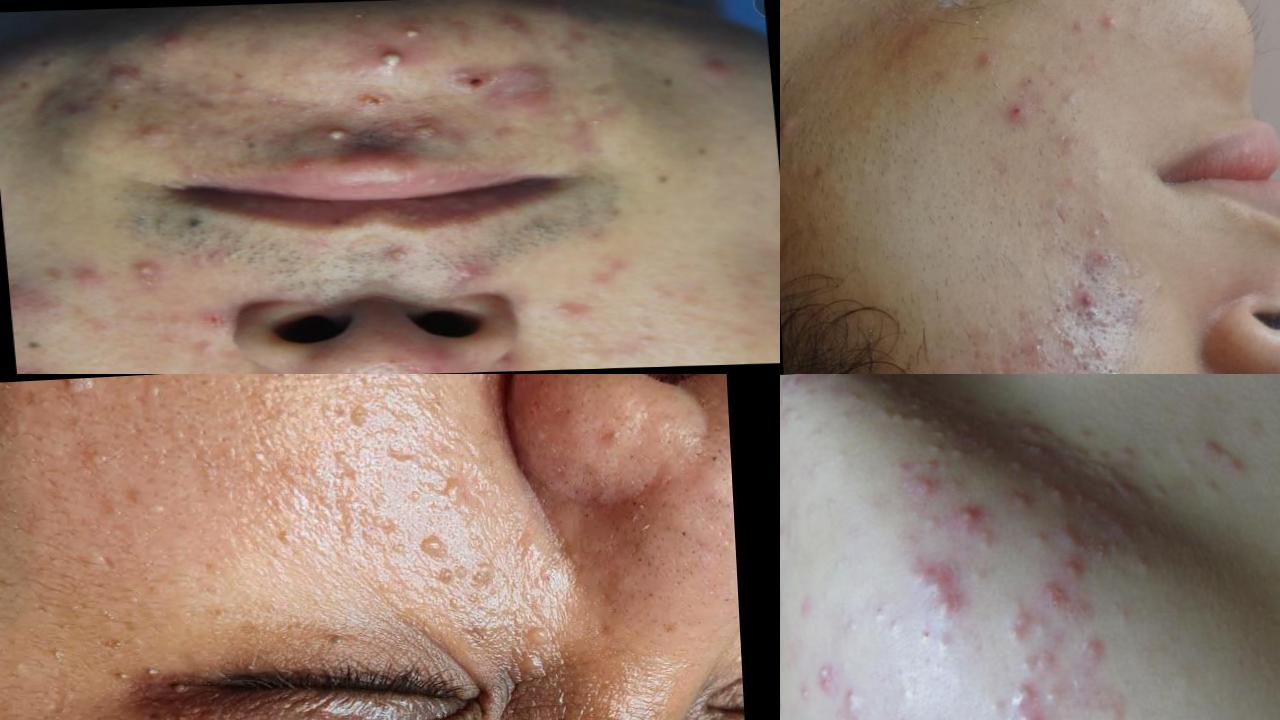acne_scars: (1083, 328, 1120, 368), (993, 346, 1022, 375)
blackhead: (634, 565, 668, 617), (623, 489, 655, 523), (605, 416, 632, 454), (1089, 198, 1121, 230), (697, 435, 722, 474), (1019, 65, 1047, 94), (671, 515, 698, 545)
cystic: (909, 555, 961, 599), (1055, 513, 1093, 560)
flat_wart: (411, 518, 523, 601), (169, 417, 250, 487), (322, 500, 408, 556), (323, 398, 396, 438), (437, 468, 485, 512), (86, 439, 137, 479), (58, 380, 123, 400)
milium: (47, 634, 75, 666), (159, 706, 203, 720), (113, 660, 130, 687)
papular: (126, 114, 178, 151), (536, 291, 589, 327), (1090, 1, 1126, 45), (144, 30, 191, 58), (100, 60, 144, 88), (65, 257, 106, 287), (1041, 580, 1073, 612), (999, 101, 1032, 132), (448, 259, 490, 283), (977, 38, 1002, 78)
purulent: (126, 256, 178, 282), (395, 19, 441, 44), (1007, 679, 1038, 714), (372, 45, 413, 71), (1061, 561, 1092, 595), (1010, 603, 1033, 647), (934, 598, 966, 627), (1086, 632, 1114, 665), (321, 123, 355, 146), (413, 123, 443, 141), (958, 503, 980, 527), (389, 248, 414, 262), (1022, 714, 1036, 720)
sebo-crystan-conglo: (26, 83, 120, 134), (481, 63, 570, 109), (341, 84, 409, 114), (444, 62, 497, 98), (1067, 285, 1111, 326), (900, 474, 940, 504), (1040, 581, 1068, 613), (815, 656, 839, 693), (700, 59, 737, 81)
syringoma: (505, 604, 573, 720)
whitehead: (879, 396, 948, 442), (931, 406, 966, 442), (928, 442, 970, 468), (1149, 479, 1182, 504), (1067, 441, 1100, 462), (1131, 548, 1159, 572), (1004, 456, 1028, 475), (1087, 491, 1105, 515), (840, 404, 856, 430), (1052, 482, 1071, 502)
